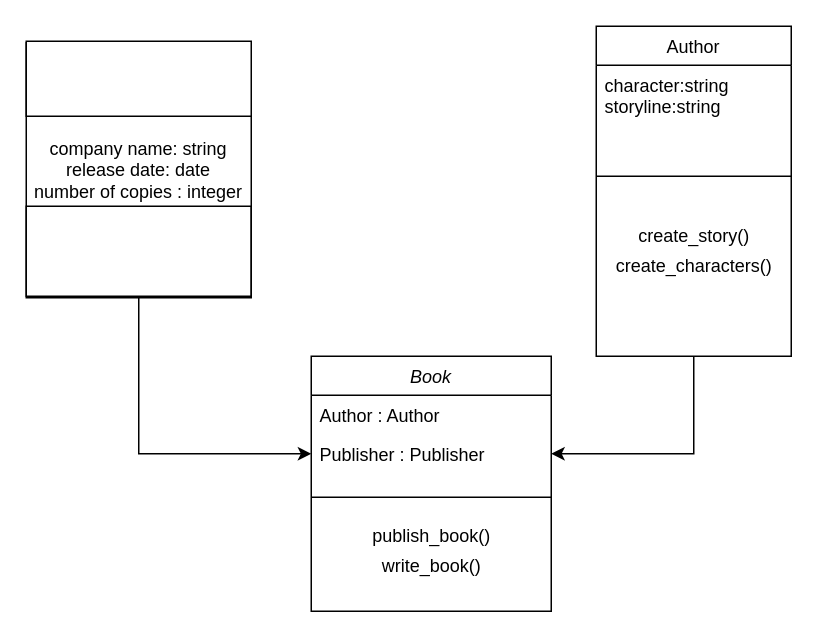
The diagram is 818 pixels wide and 638 high, and some of its shapes have lost their labels. Here are the shapes that lost their labels. From the top down, the centre of each, then its label:
(138,78): Publisher
(138,250): print_book() market_book() distribute_book()
